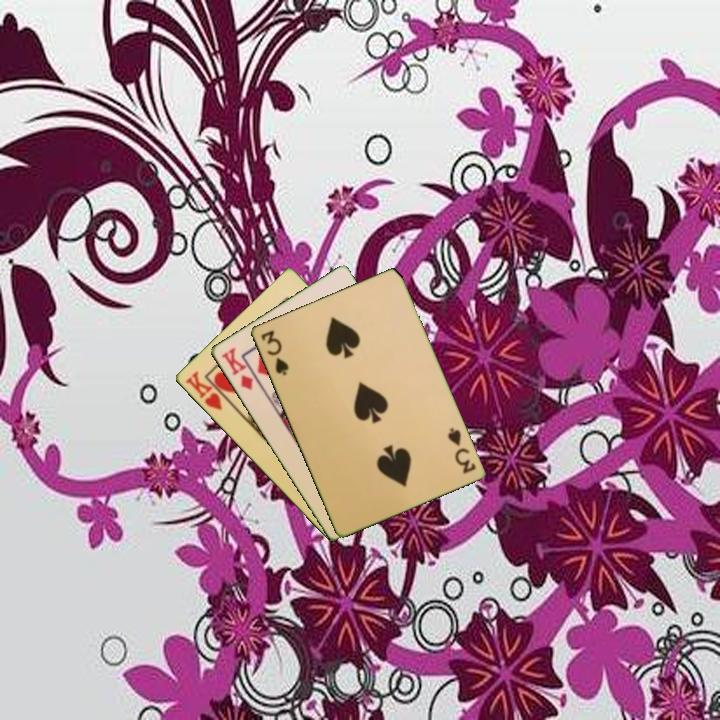3s: (443, 424, 478, 477), (257, 326, 291, 378)
Kd: (217, 344, 255, 393)
Kh: (181, 367, 233, 413)
